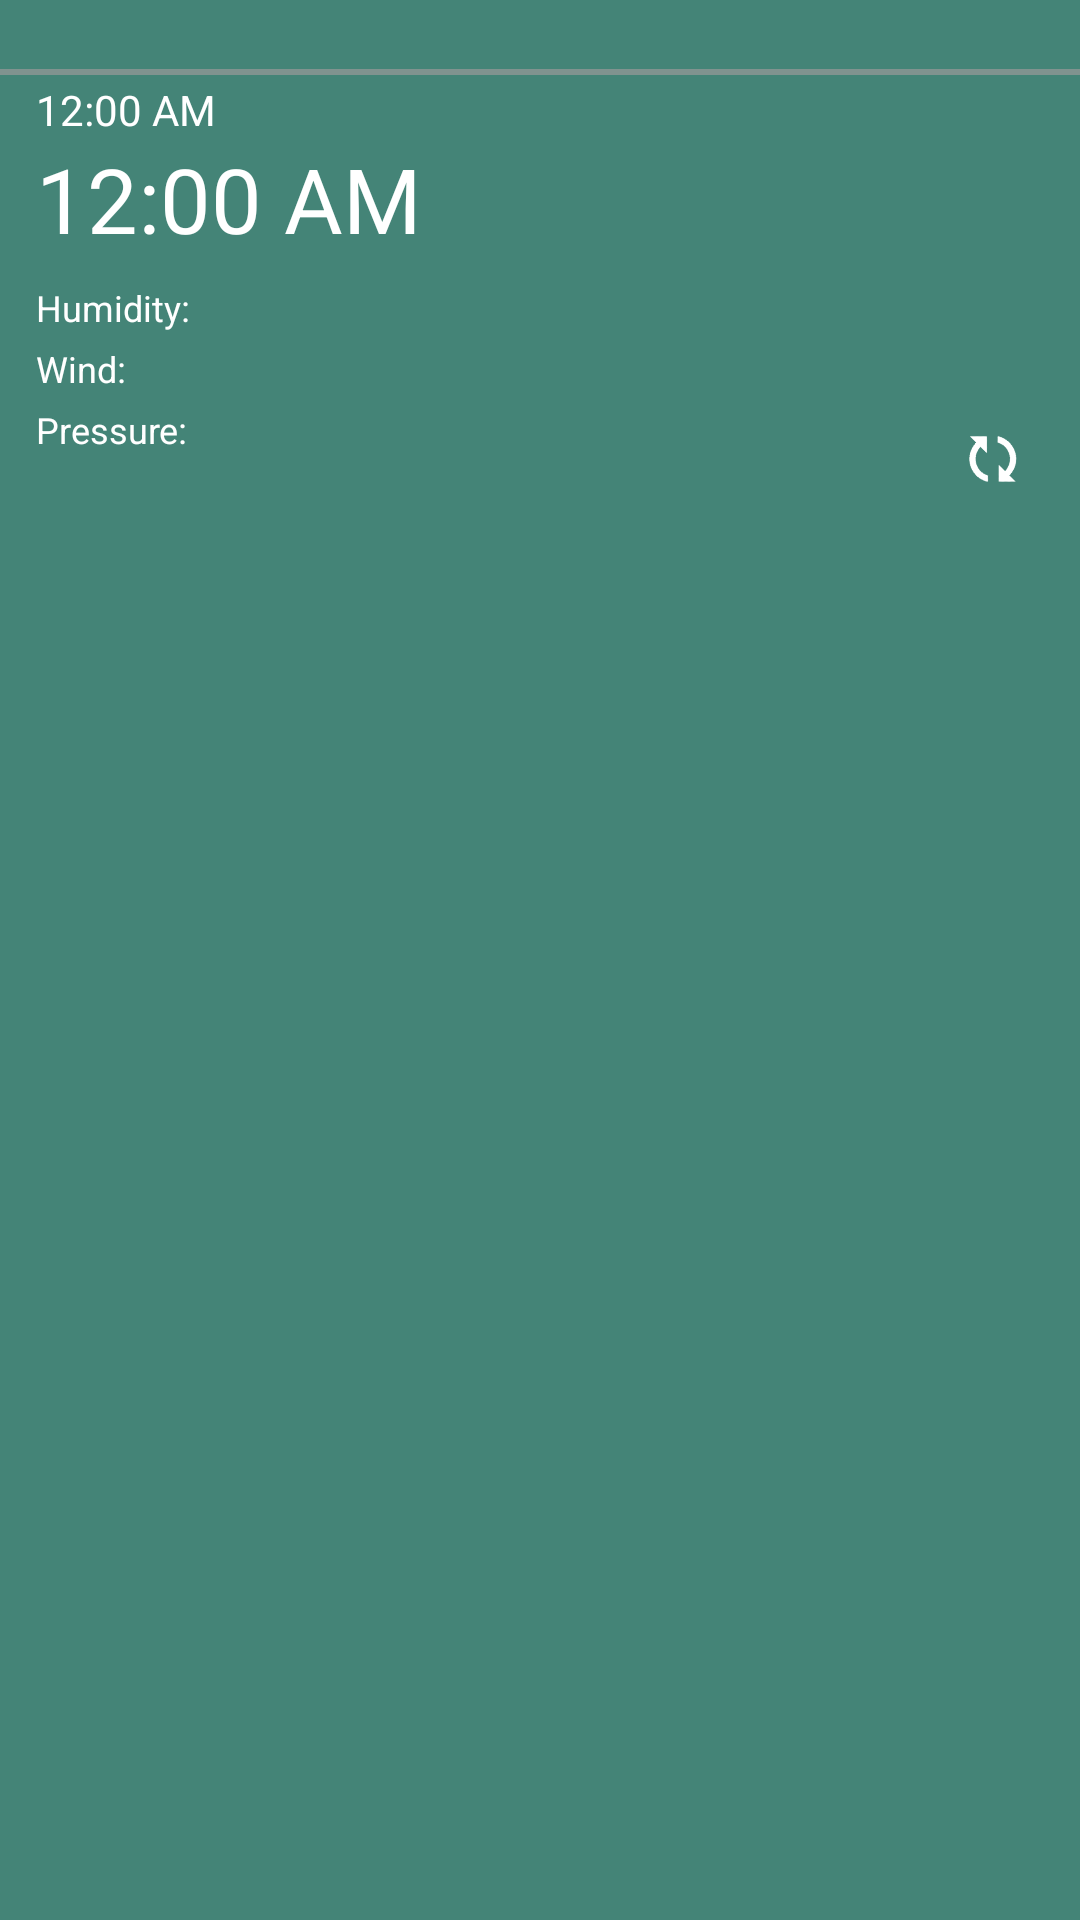

Icon bounding boxes for this 1080x1920 phone screenshot, format bbox=(x1, y1, x2, y2):
sync: bbox=(969, 436, 1017, 482)
